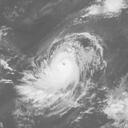cyclone: (22, 42, 88, 112)
